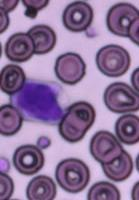L: (9, 78, 70, 125)
